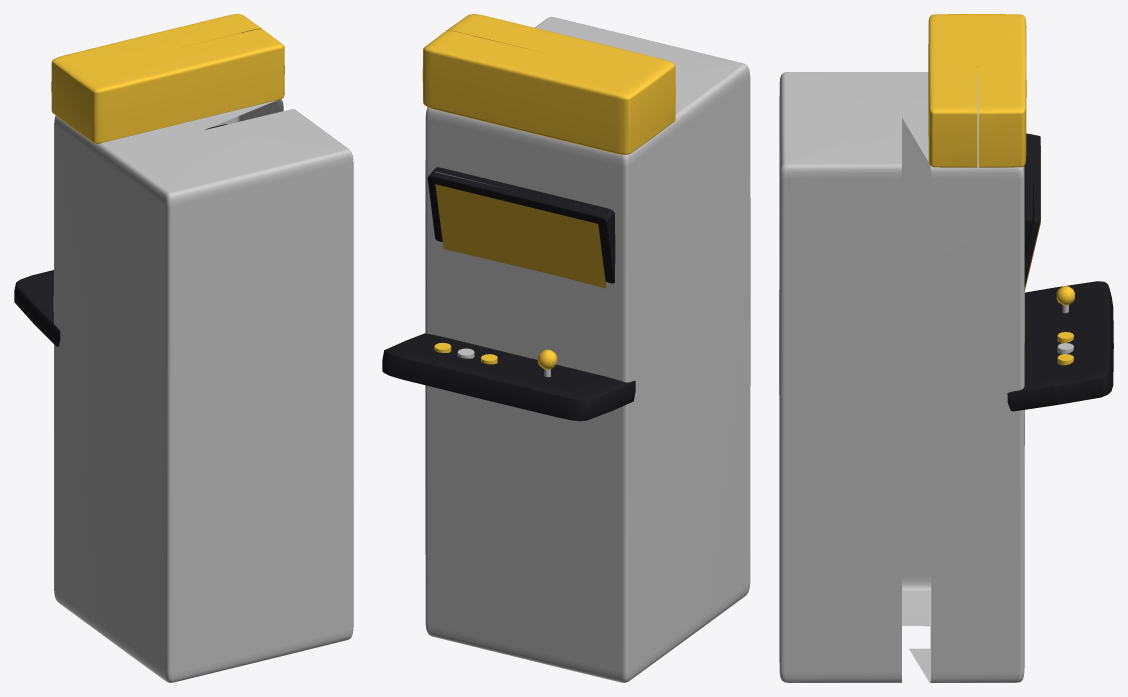
File: home_arcade.fbx
3 renders of one model, left to right at view 1: azimuth 30°, elevation 25°; view 2: azimuth 150°, elevation 25°; view 3: azimuth 270°, elevation 25°, orthographic. The views are drawn at different scales.
Parts seen in each view (by area): view 1: home_arcade; view 2: home_arcade; view 3: home_arcade.
Boxes of the visible parts, x1=… form: home_arcade: x1=14, y1=14, x2=353, y2=682; home_arcade: x1=382, y1=14, x2=750, y2=682; home_arcade: x1=779, y1=14, x2=1113, y2=682.
Size of the model in its own units: 0.72 by 1.94 by 1.02.
